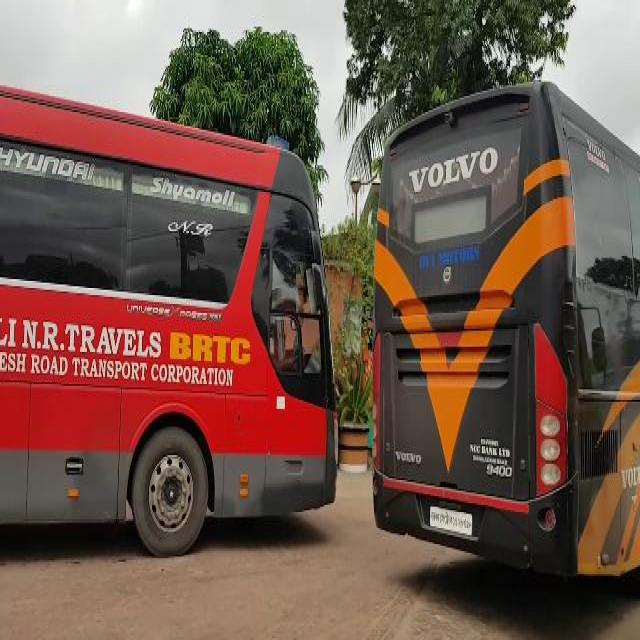vehicle: (5, 80, 337, 555), (373, 77, 638, 580)
